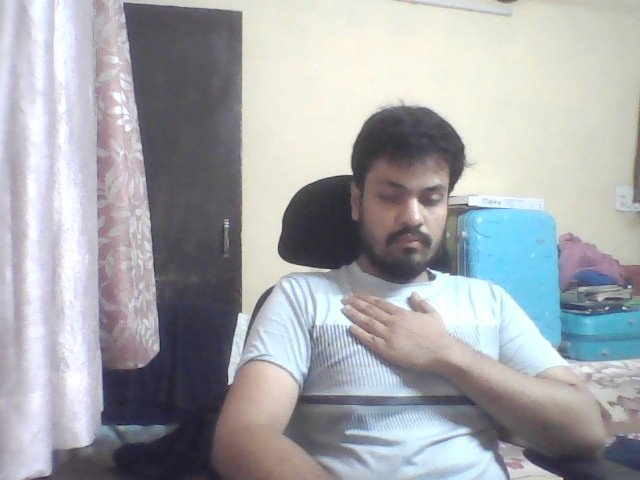Please: (325, 279, 476, 386)
